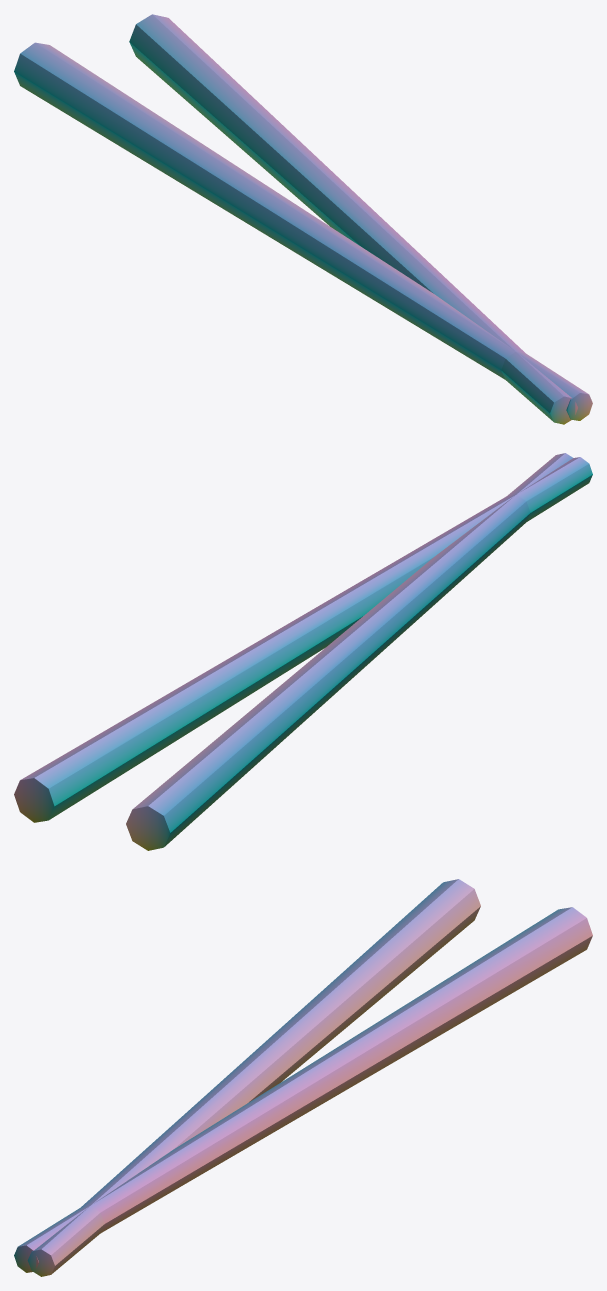
Rendered from env_deco_chopstick.glb.
3 renders of one model, top to bottom at view 1: azimuth 30°, elevation 25°; view 2: azimuth 150°, elevation 25°; view 3: azimuth 330°, elevation 25°, orthographic. The views are drawn at different scales.
Visible parts, largest first — view 1: env_deco_chopstick_mesh; view 2: env_deco_chopstick_mesh; view 3: env_deco_chopstick_mesh.
Boxes of the visible parts, x1=… form: env_deco_chopstick_mesh: x1=14, y1=14, x2=592, y2=424; env_deco_chopstick_mesh: x1=14, y1=453, x2=592, y2=850; env_deco_chopstick_mesh: x1=14, y1=879, x2=592, y2=1276.
Bounding box in the file's own units: 0.1903 × 0.052 × 1.
